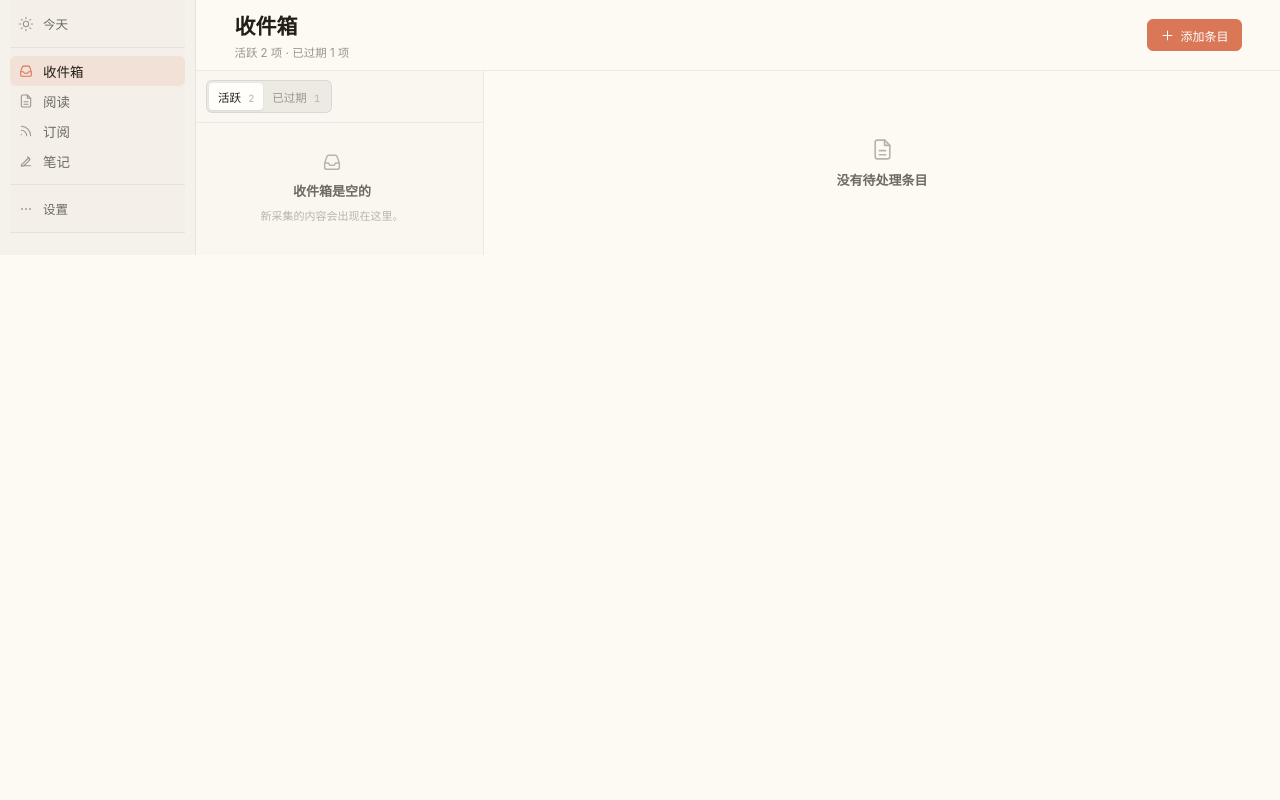
InboxSurface › updates the aggregate counts when a new pending Inbox item is created
Expected: the text "收件箱是空的" is shown, [293,181,371,200]
Expected: the tab with aria-label "活跃 (2)" is shown, [209,83,263,110]
Click the button "添加条目": x=1194, y=35 [1147,19,1242,51]
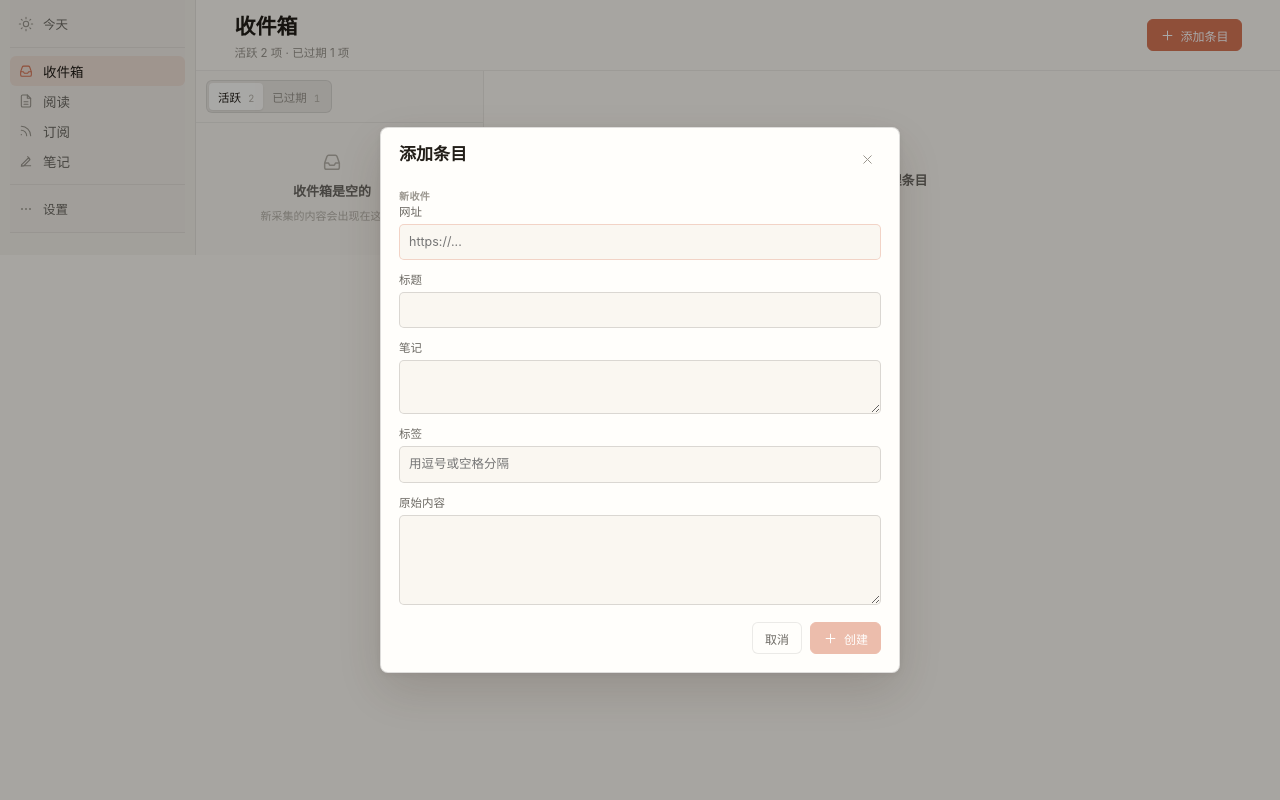
In the field labelled "网址": x=640, y=242 [399,224,881,260], type "https://example.com/new"
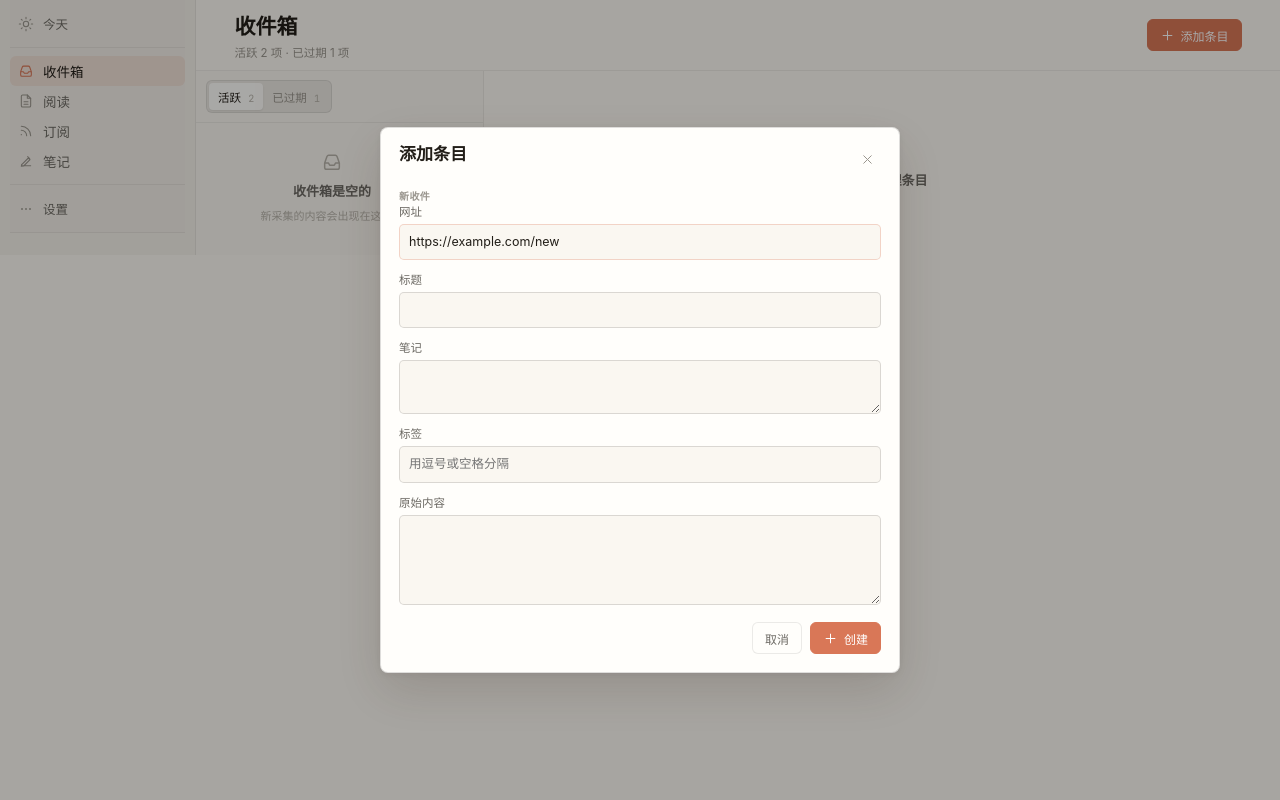
Click the button "创建": x=846, y=638 [810,622,881,654]
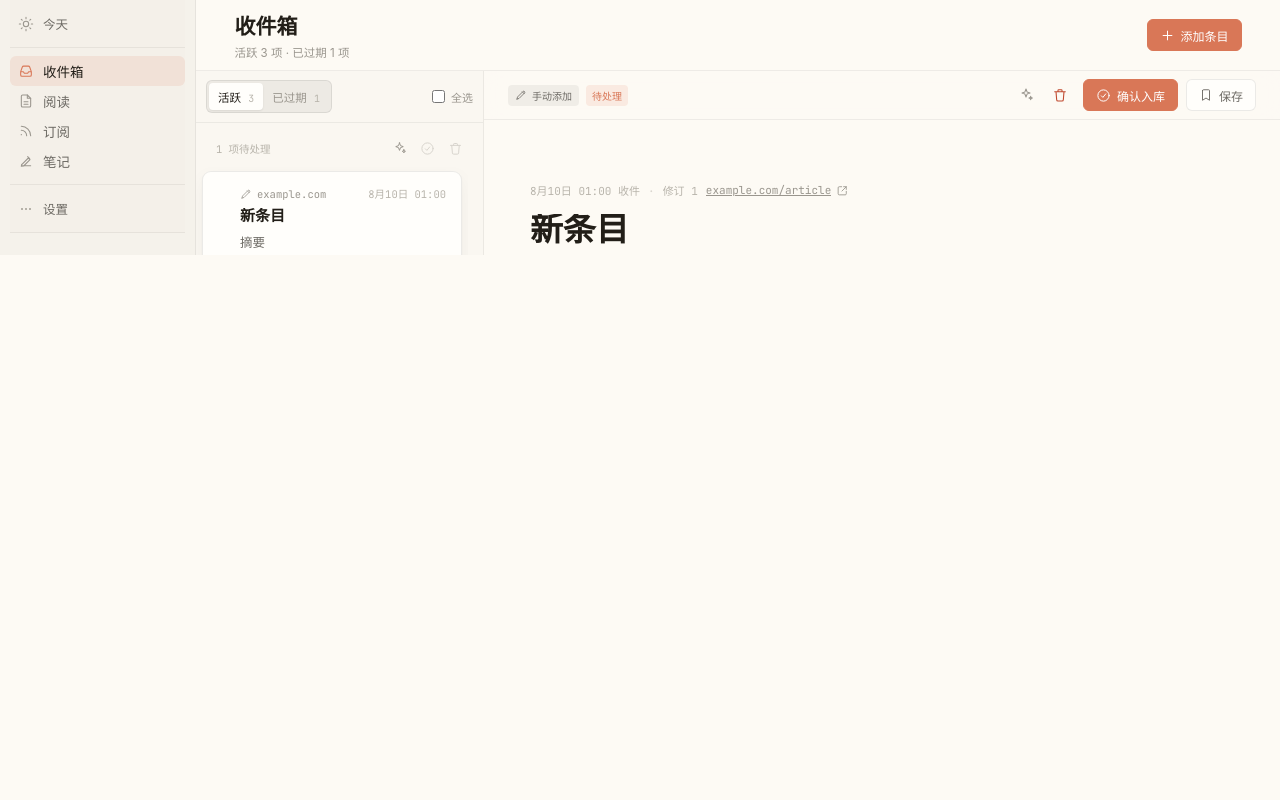
Expected: the tab with aria-label "已过期 (1)" is shown, [263,83,329,110]
Now the tab with aria-label "活跃 (3)" is shown, box [209,83,263,110]
